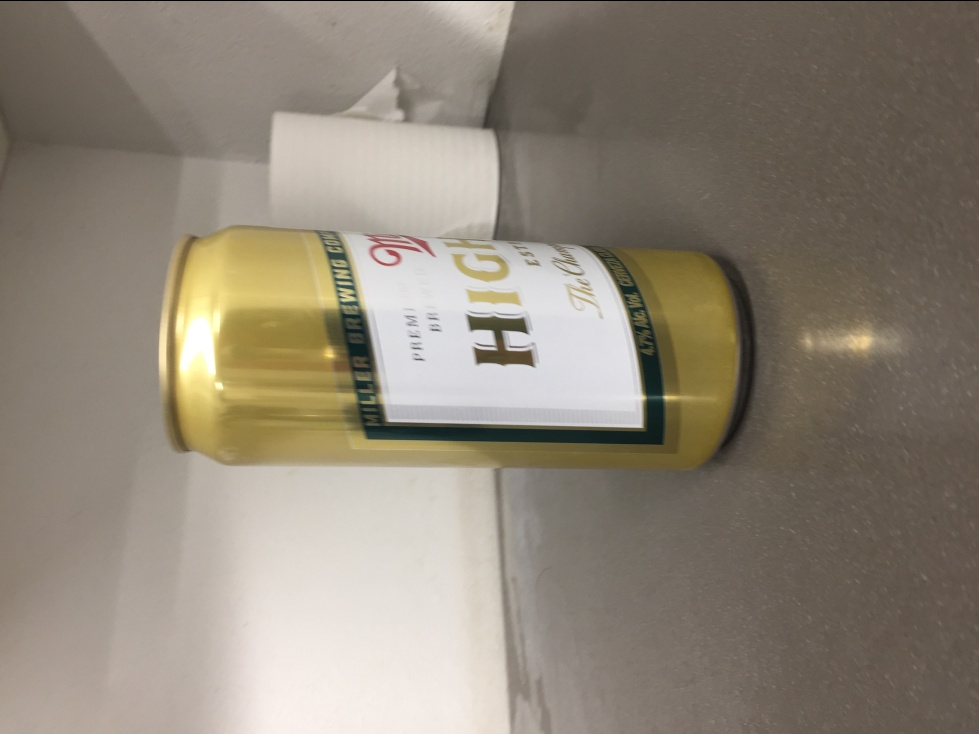miller: (155, 222, 746, 474)
